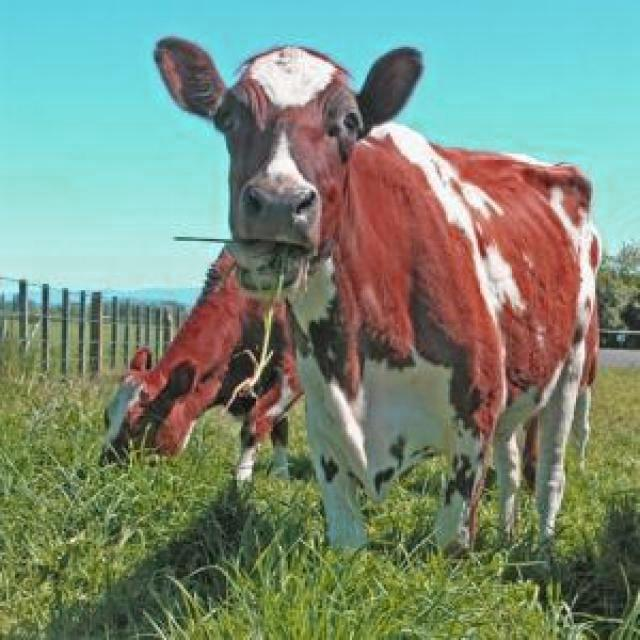cow: (155, 38, 600, 547), (101, 250, 302, 481)
